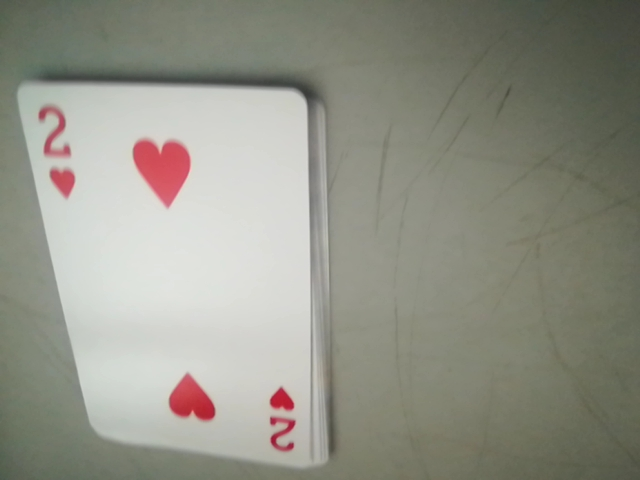hx 2: (22, 92, 83, 201), (264, 385, 309, 464)
